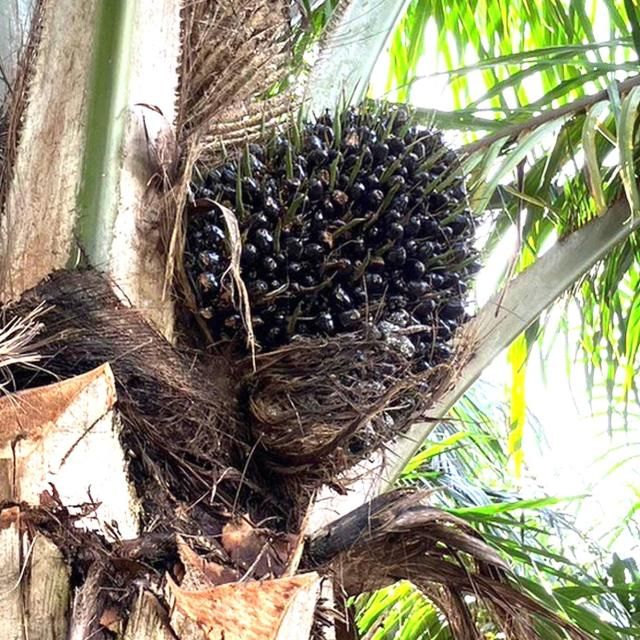unripe: (188, 95, 473, 432)
